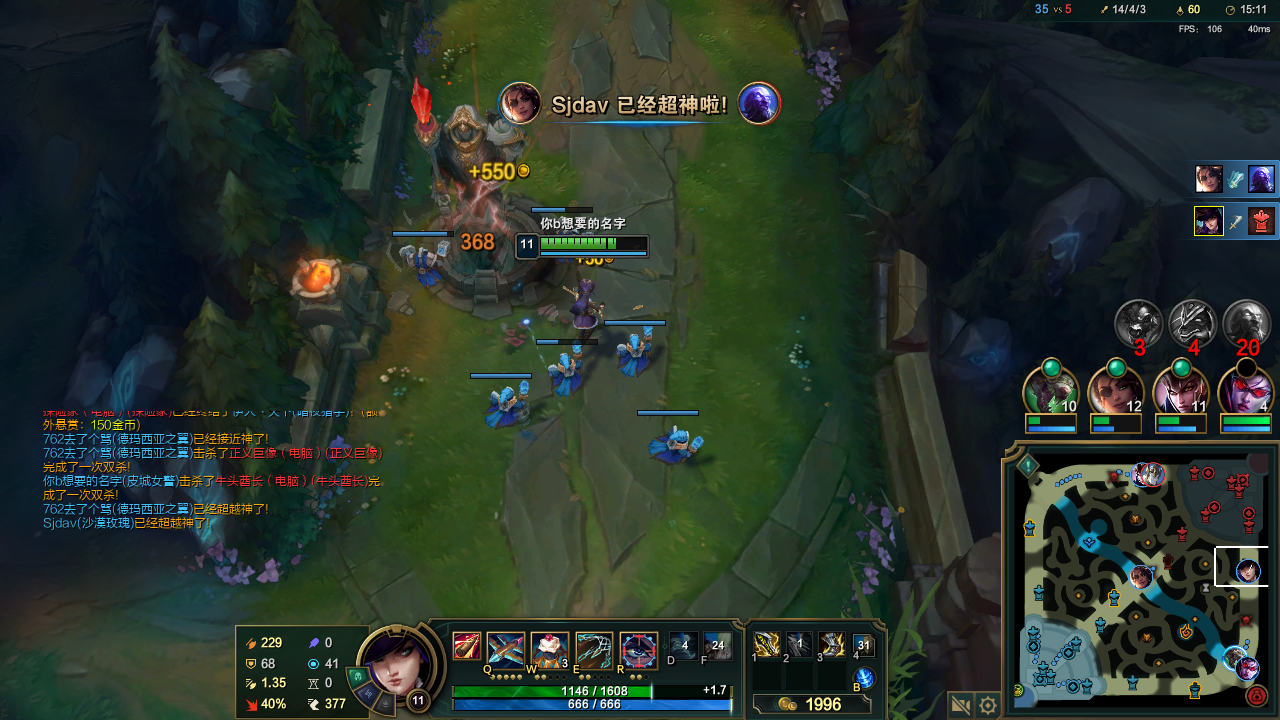DFFYT: (400, 96, 559, 287)
WFXB: (640, 428, 700, 467), (486, 383, 540, 425), (547, 343, 592, 392), (606, 331, 658, 371), (405, 238, 446, 284), (551, 220, 588, 247)
